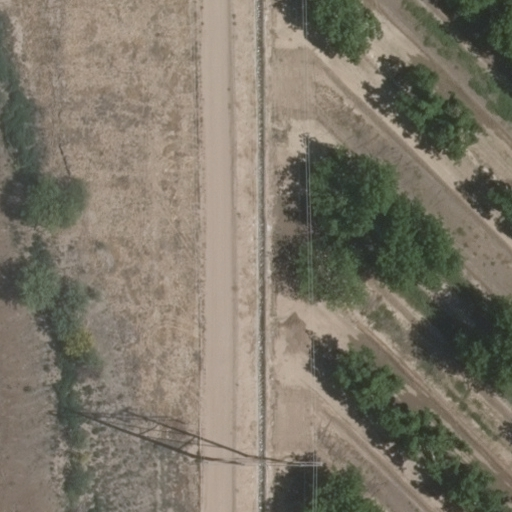DT: (193, 444, 328, 477)
